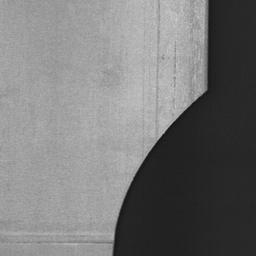Crescent gap: (113, 92, 206, 256)
